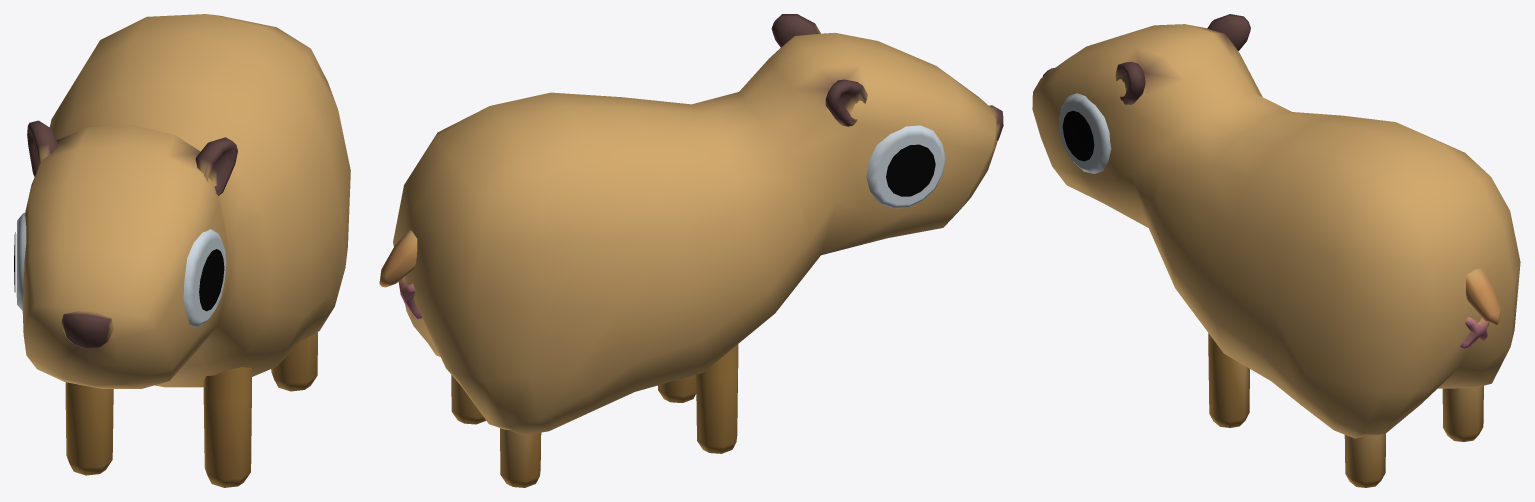
Rendered from Capybara.glb.
The picture shows the model from 3 angles, left to right: view 1: azimuth 30°, elevation 25°; view 2: azimuth 150°, elevation 25°; view 3: azimuth 270°, elevation 25°; orthographic projection. The views are drawn at different scales.
Visible parts, largest first — view 1: 19; view 2: 19; view 3: 19.
Part boxes in pixels (x1,y1,x2,y2): 19: [14, 14, 350, 487]; 19: [379, 14, 1003, 487]; 19: [1032, 14, 1520, 487].
Bounding box in the file's own units: 0.7248 × 0.5816 × 0.7676.
